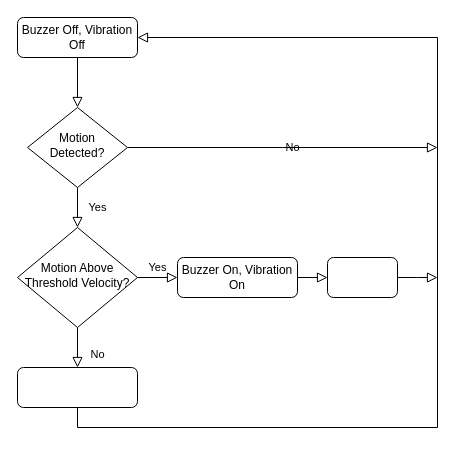
The diagram is 465 pixels wide and 455 high, and some of its shapes have lost their labels. The shapes that lost their labels are listed below. From the top down, each one's box as (x1, y1, x2, y2) in pixels, then its label:
(326, 256, 398, 298): Delay
(16, 366, 138, 408): Buzzer Off, Vibration On
